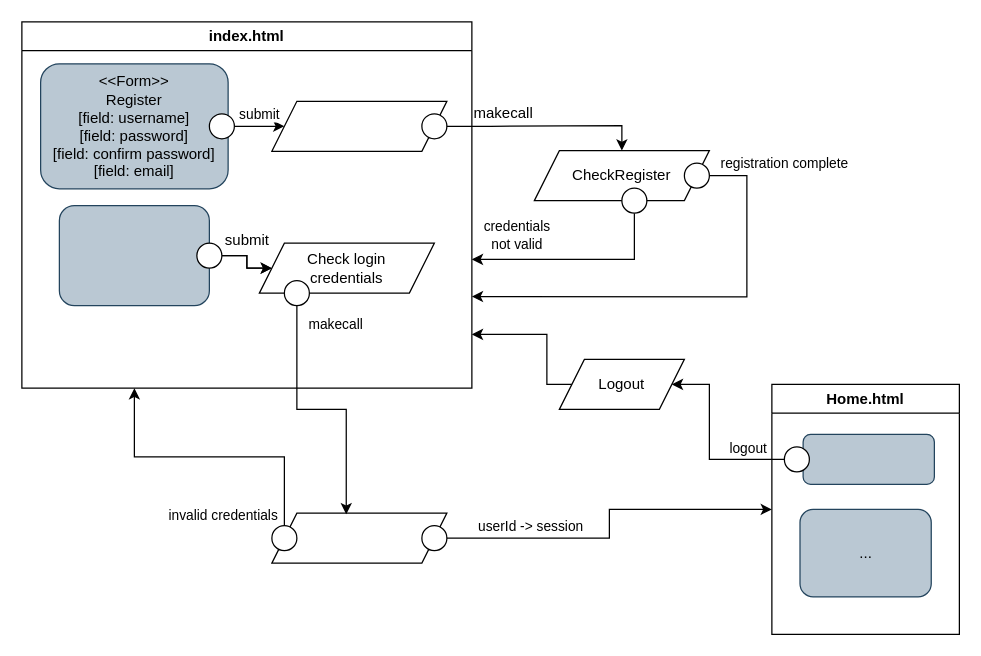
Image size: 981x656. Some labels were removed from this diagram. Here are the shapes that lost their labels. From the top down, the box of each, then its label:
(271, 100, 447, 151): Check registration credentials
(58, 204, 209, 306): <<Form>> Login [field: username] [field: password]
(802, 433, 934, 484): <<Paragraph>> Logout
(271, 512, 447, 563): Check Login
